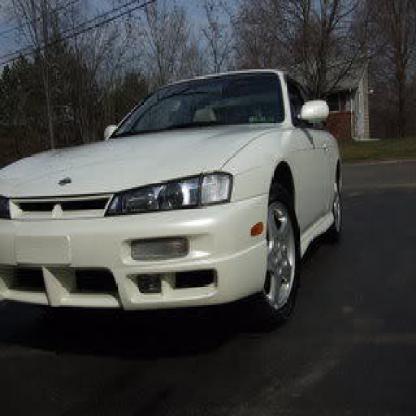Vehicle: (1, 62, 350, 340)
